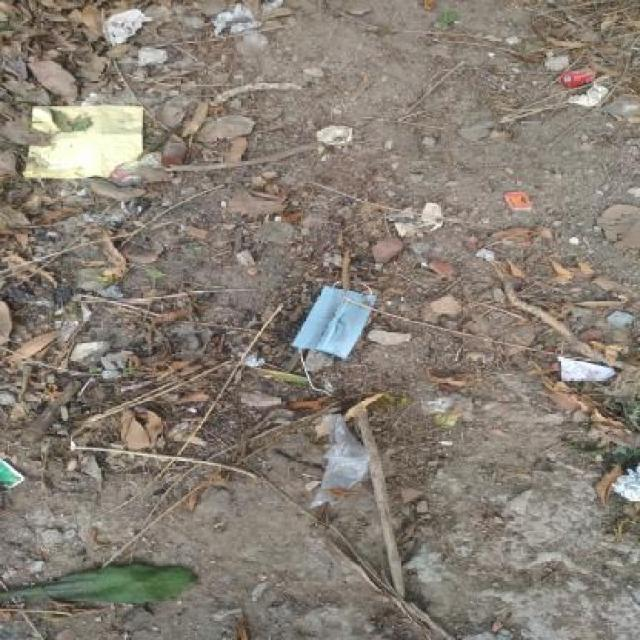garbage: (6, 255, 630, 640), (0, 3, 262, 243), (535, 3, 626, 104), (306, 112, 364, 170), (494, 185, 550, 221)
